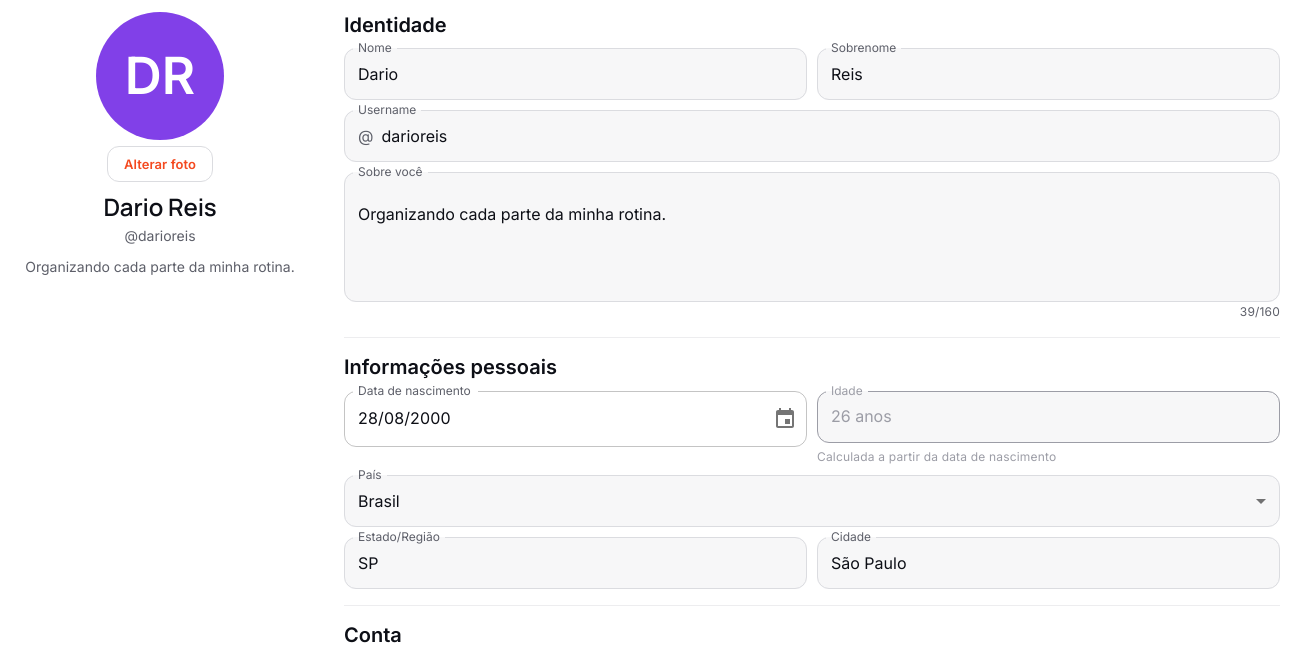
it: ProfileForm › checks availability once the username actually changes
Step 1. Replace the text in the field labelled "Username" with "novo_username" → (831, 136), box [382,111,1280,162]
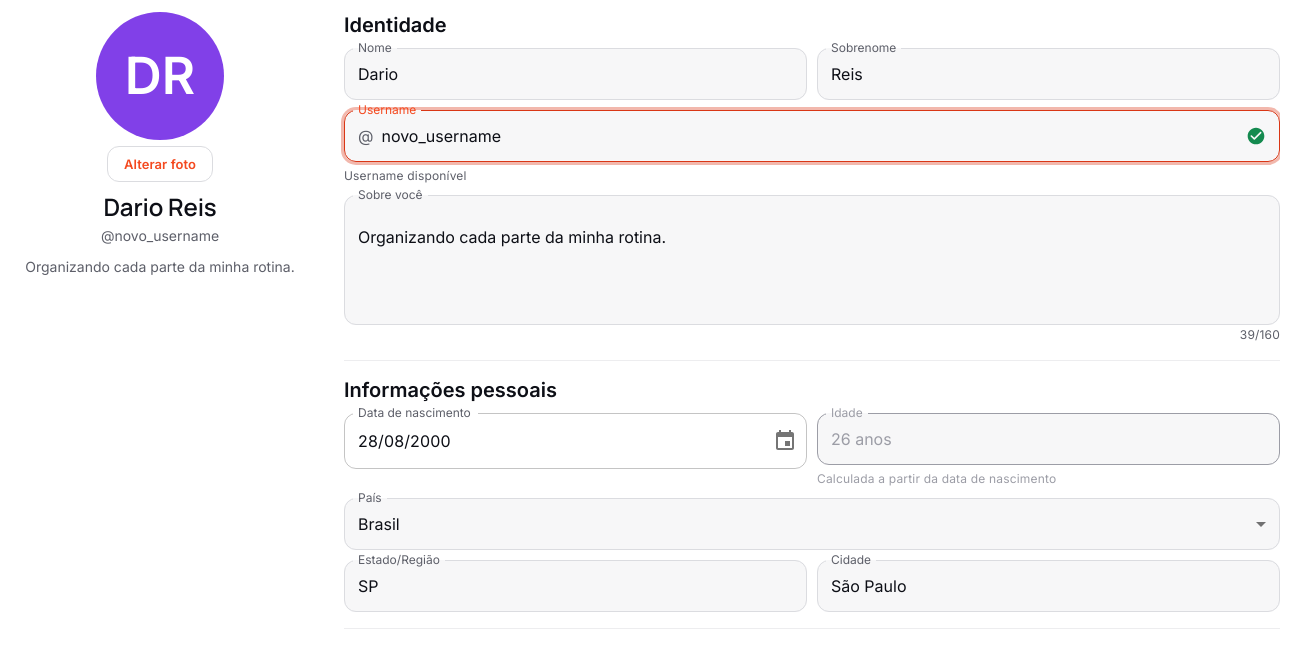
Expected: the text "Username disponível" is shown, [344,168,467,183]
